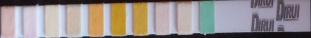color 1: (2, 7, 13, 37)
color 10: (201, 2, 212, 31)
color 2: (24, 7, 35, 37)
color 3: (45, 6, 58, 36)
color 4: (67, 6, 79, 35)
color 5: (90, 5, 102, 35)
color 6: (112, 4, 124, 34)
color 7: (134, 4, 146, 34)
color 8: (156, 4, 168, 33)
color 9: (178, 4, 190, 33)
